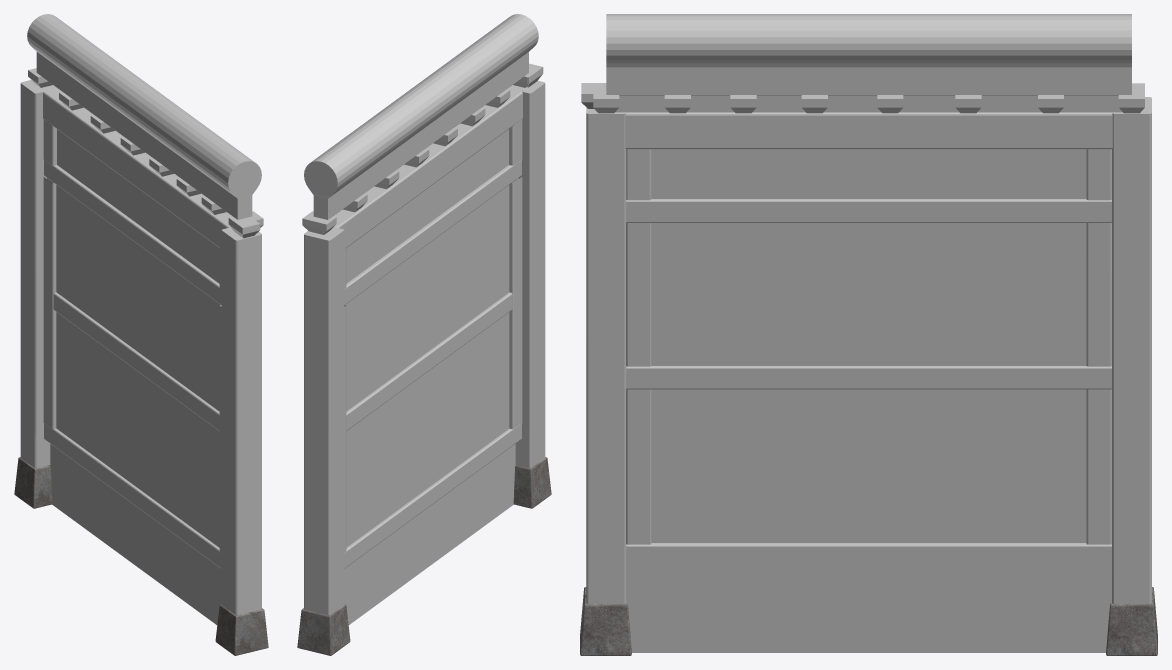
Rendered from SM_Building_Wall_22.FBX.
3 renders of one model, left to right at view 1: azimuth 30°, elevation 25°; view 2: azimuth 150°, elevation 25°; view 3: azimuth 270°, elevation 25°, orthographic. The views are drawn at different scales.
Parts seen in each view (by area): view 1: SM_Building_Wall_22; view 2: SM_Building_Wall_22; view 3: SM_Building_Wall_22.
Boxes of the visible parts, box(x1,y1,x2,y2) form: SM_Building_Wall_22: box(14, 14, 268, 655); SM_Building_Wall_22: box(297, 14, 551, 655); SM_Building_Wall_22: box(580, 14, 1157, 655).
Size of the model in its own units: 54.78 by 681 by 565.
